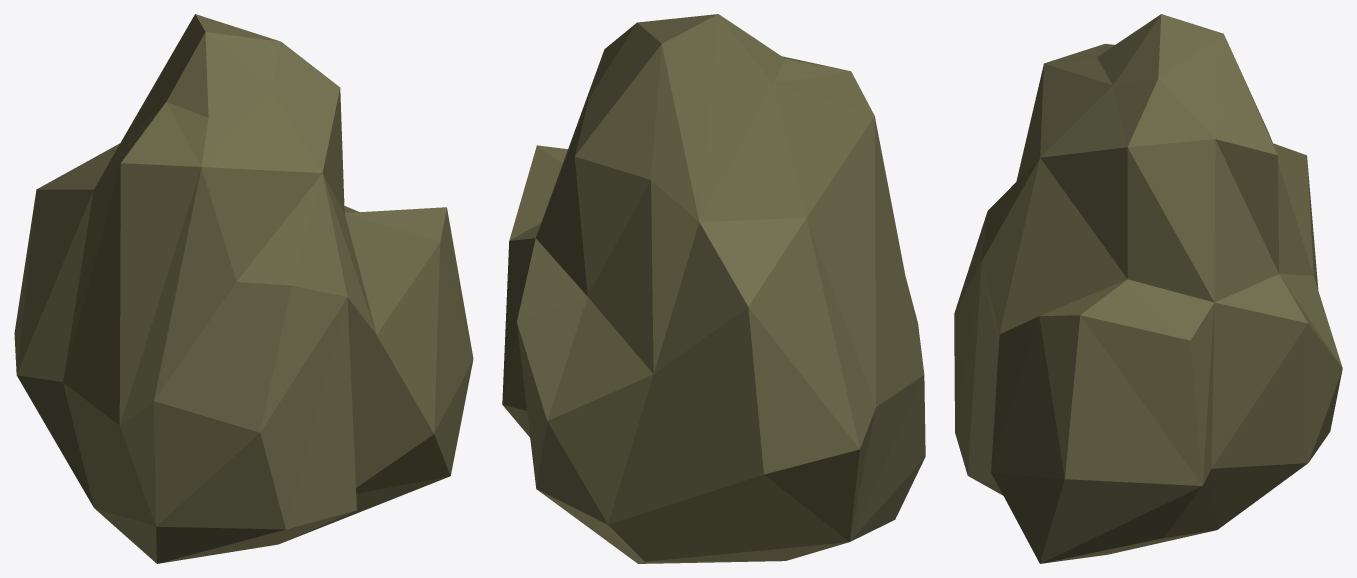
Rendered from SM_Env_Bush_Small_01.fbx.
The picture shows the model from 3 angles, left to right: view 1: azimuth 30°, elevation 25°; view 2: azimuth 150°, elevation 25°; view 3: azimuth 270°, elevation 25°; orthographic projection. The views are drawn at different scales.
Parts seen in each view (by area): view 1: SM_Env_Bush_Small_01; view 2: SM_Env_Bush_Small_01; view 3: SM_Env_Bush_Small_01.
Part boxes in pixels (x1,y1,x2,y2): SM_Env_Bush_Small_01: (14,14,473,563); SM_Env_Bush_Small_01: (502,14,925,563); SM_Env_Bush_Small_01: (954,14,1342,563).
Size of the model in its own units: 119 by 152 by 104.
